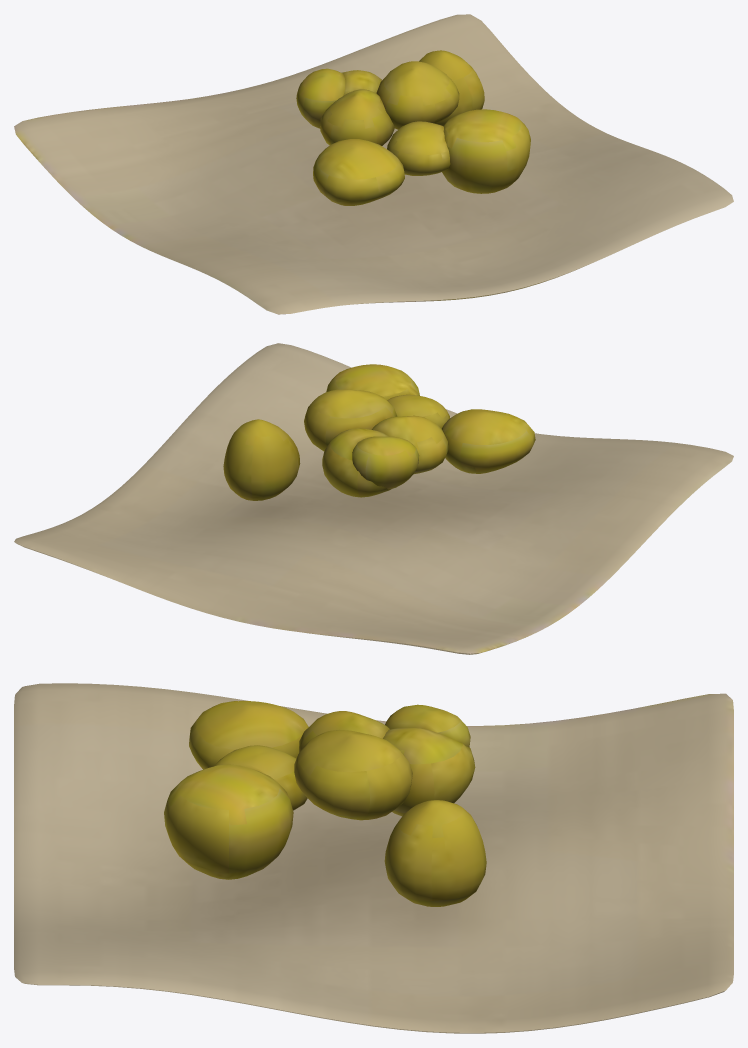
The model's file is sulfur.glb.
3 renders of one model, top to bottom at view 1: azimuth 30°, elevation 25°; view 2: azimuth 150°, elevation 25°; view 3: azimuth 270°, elevation 25°, orthographic. The views are drawn at different scales.
Parts seen in each view (by area): view 1: sulfur; view 2: sulfur; view 3: sulfur.
Boxes of the visible parts, bbox=[...] form: sulfur: bbox=[14, 14, 733, 314]; sulfur: bbox=[14, 343, 733, 654]; sulfur: bbox=[14, 683, 733, 1033].
Bounding box in the file's own units: 0.1193 × 0.0334 × 0.1193.
1 material, 1 textured.
